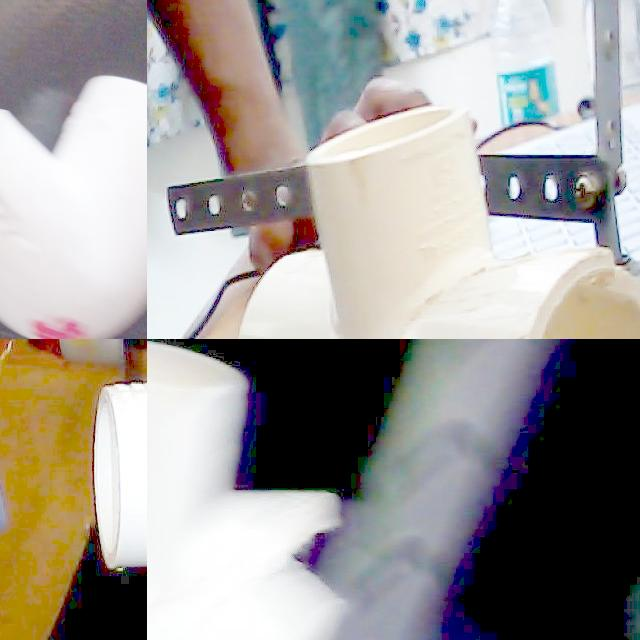Defective: (241, 483, 356, 640), (419, 220, 479, 278), (583, 264, 640, 312), (403, 322, 483, 339)
T Joint: (238, 108, 640, 339), (93, 381, 147, 571)
